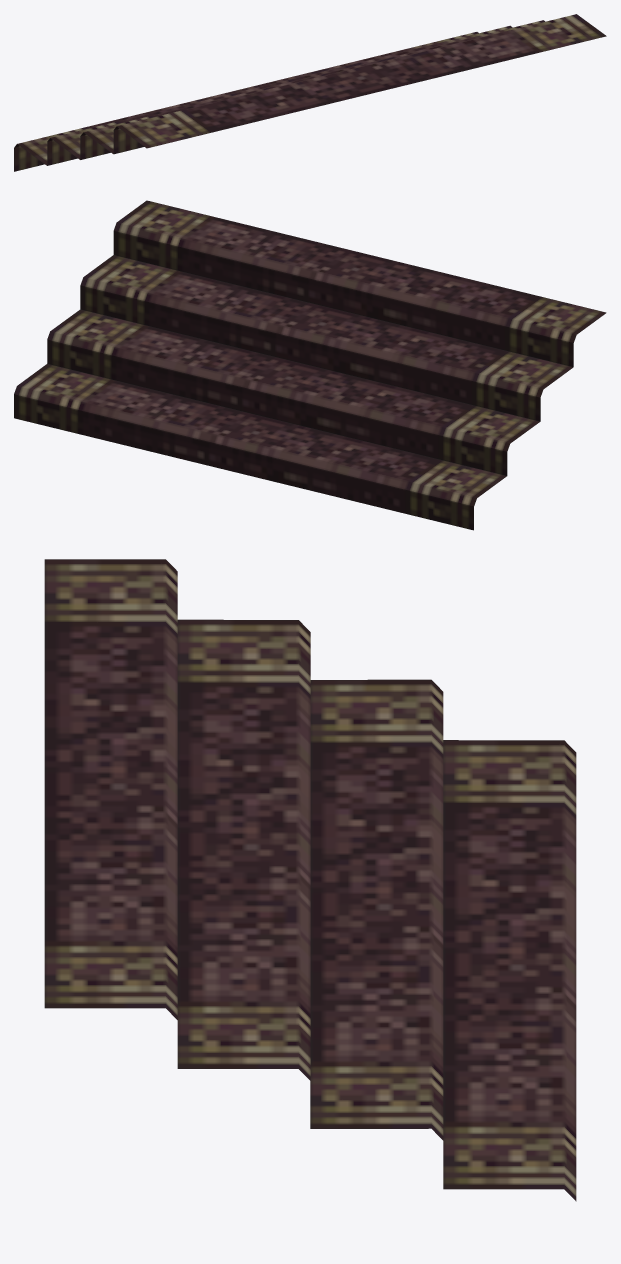
File: EnvMdrMD_Castle_A_Stairs_C_Coloseum.FBX
3 views of the same model, one above another, from view 1: azimuth 30°, elevation 25°; view 2: azimuth 150°, elevation 25°; view 3: azimuth 270°, elevation 25° (orthographic). The views are drawn at different scales.
Visible parts, largest first — view 1: EnvMdrMD_Castle_A_Stairs_C_Coloseum; view 2: EnvMdrMD_Castle_A_Stairs_C_Coloseum; view 3: EnvMdrMD_Castle_A_Stairs_C_Coloseum.
Boxes of the visible parts, box(x1,y1,x2,y2) form: EnvMdrMD_Castle_A_Stairs_C_Coloseum: box(14, 14, 606, 171); EnvMdrMD_Castle_A_Stairs_C_Coloseum: box(14, 200, 606, 530); EnvMdrMD_Castle_A_Stairs_C_Coloseum: box(44, 559, 576, 1201).
Bounding box in the file's own units: 400 × 100 × 200.
1 material, 1 textured.
